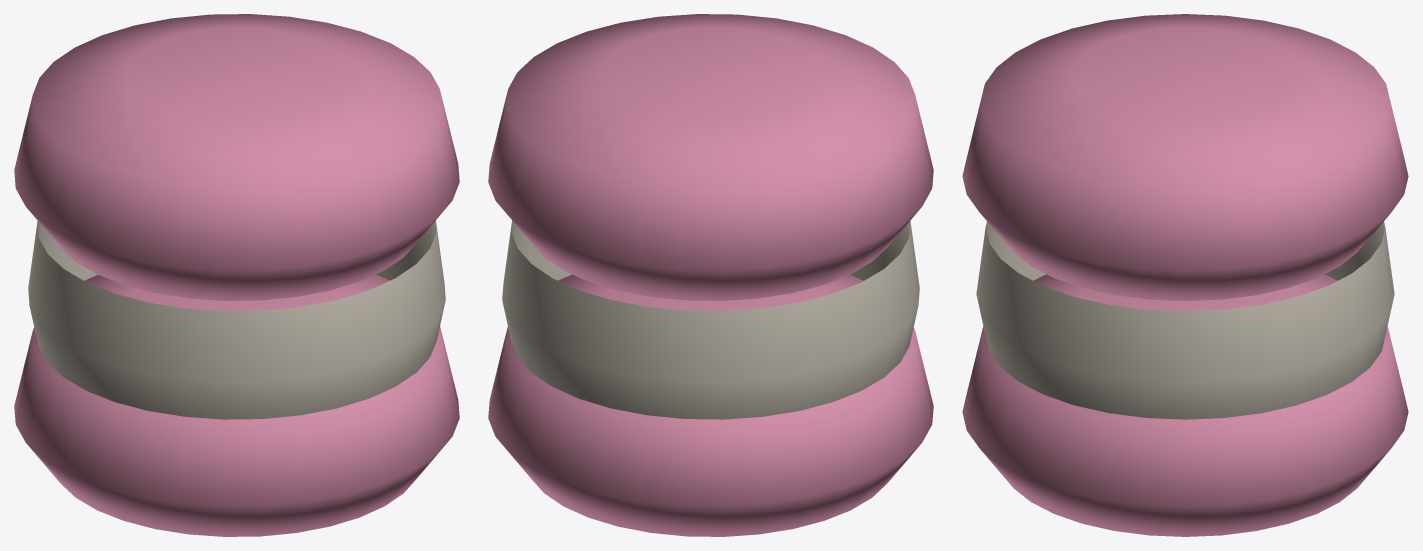
Rendered from furn_macaron_stool.glb.
3 views of the same model, side by side, from view 1: azimuth 30°, elevation 25°; view 2: azimuth 150°, elevation 25°; view 3: azimuth 270°, elevation 25° (orthographic).
Parts seen in each view (by area): view 1: furn_macaron_stool_main; view 2: furn_macaron_stool_main; view 3: furn_macaron_stool_main.
Boxes of the visible parts, box(x1,y1,x2,y2) form: furn_macaron_stool_main: box(14, 14, 459, 536); furn_macaron_stool_main: box(488, 14, 933, 536); furn_macaron_stool_main: box(962, 14, 1408, 536).
Bounding box in the file's own units: 0.48 × 0.465 × 0.48.
